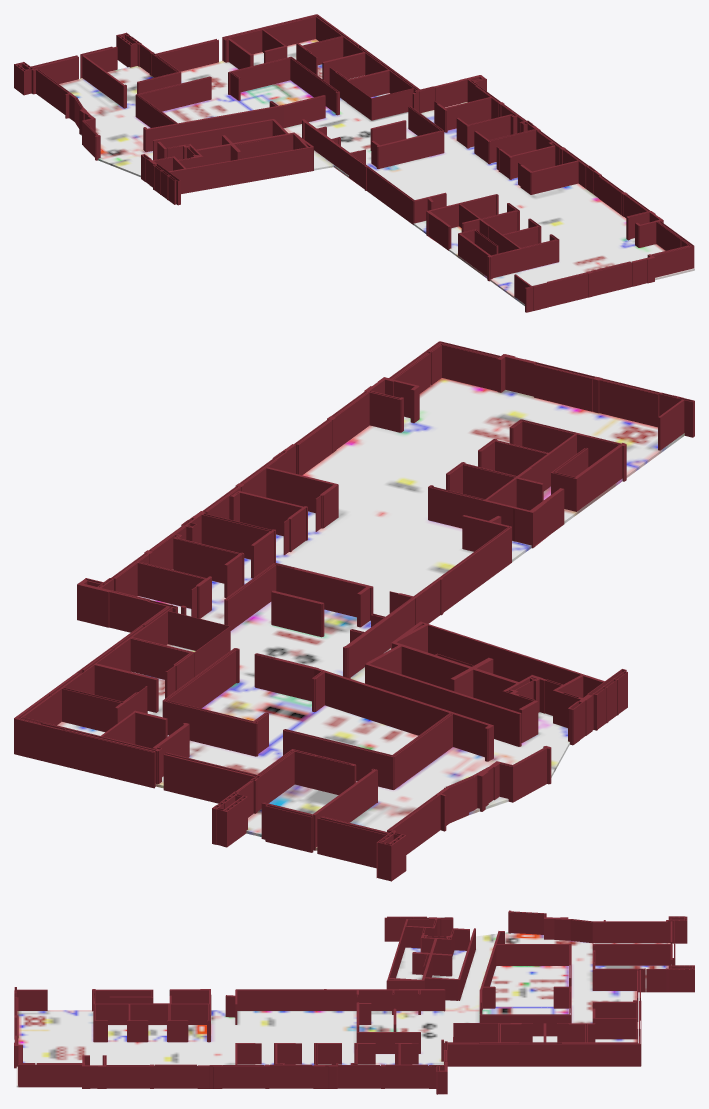
File: DamagedHelmet.gltf
3 renders of one model, top to bottom at view 1: azimuth 30°, elevation 25°; view 2: azimuth 150°, elevation 25°; view 3: azimuth 270°, elevation 25°, orthographic. The views are drawn at different scales.
Parts seen in each view (by area): view 1: Plane; view 2: Plane; view 3: Plane.
Part boxes in pixels (<box>): Plane: <box>14,14,694,312</box>; Plane: <box>14,341,694,881</box>; Plane: <box>14,910,694,1094</box>.
Bounding box in the file's own units: 2.86 × 0.1873 × 5.09.
Materials: 2 (1 with a texture image).
